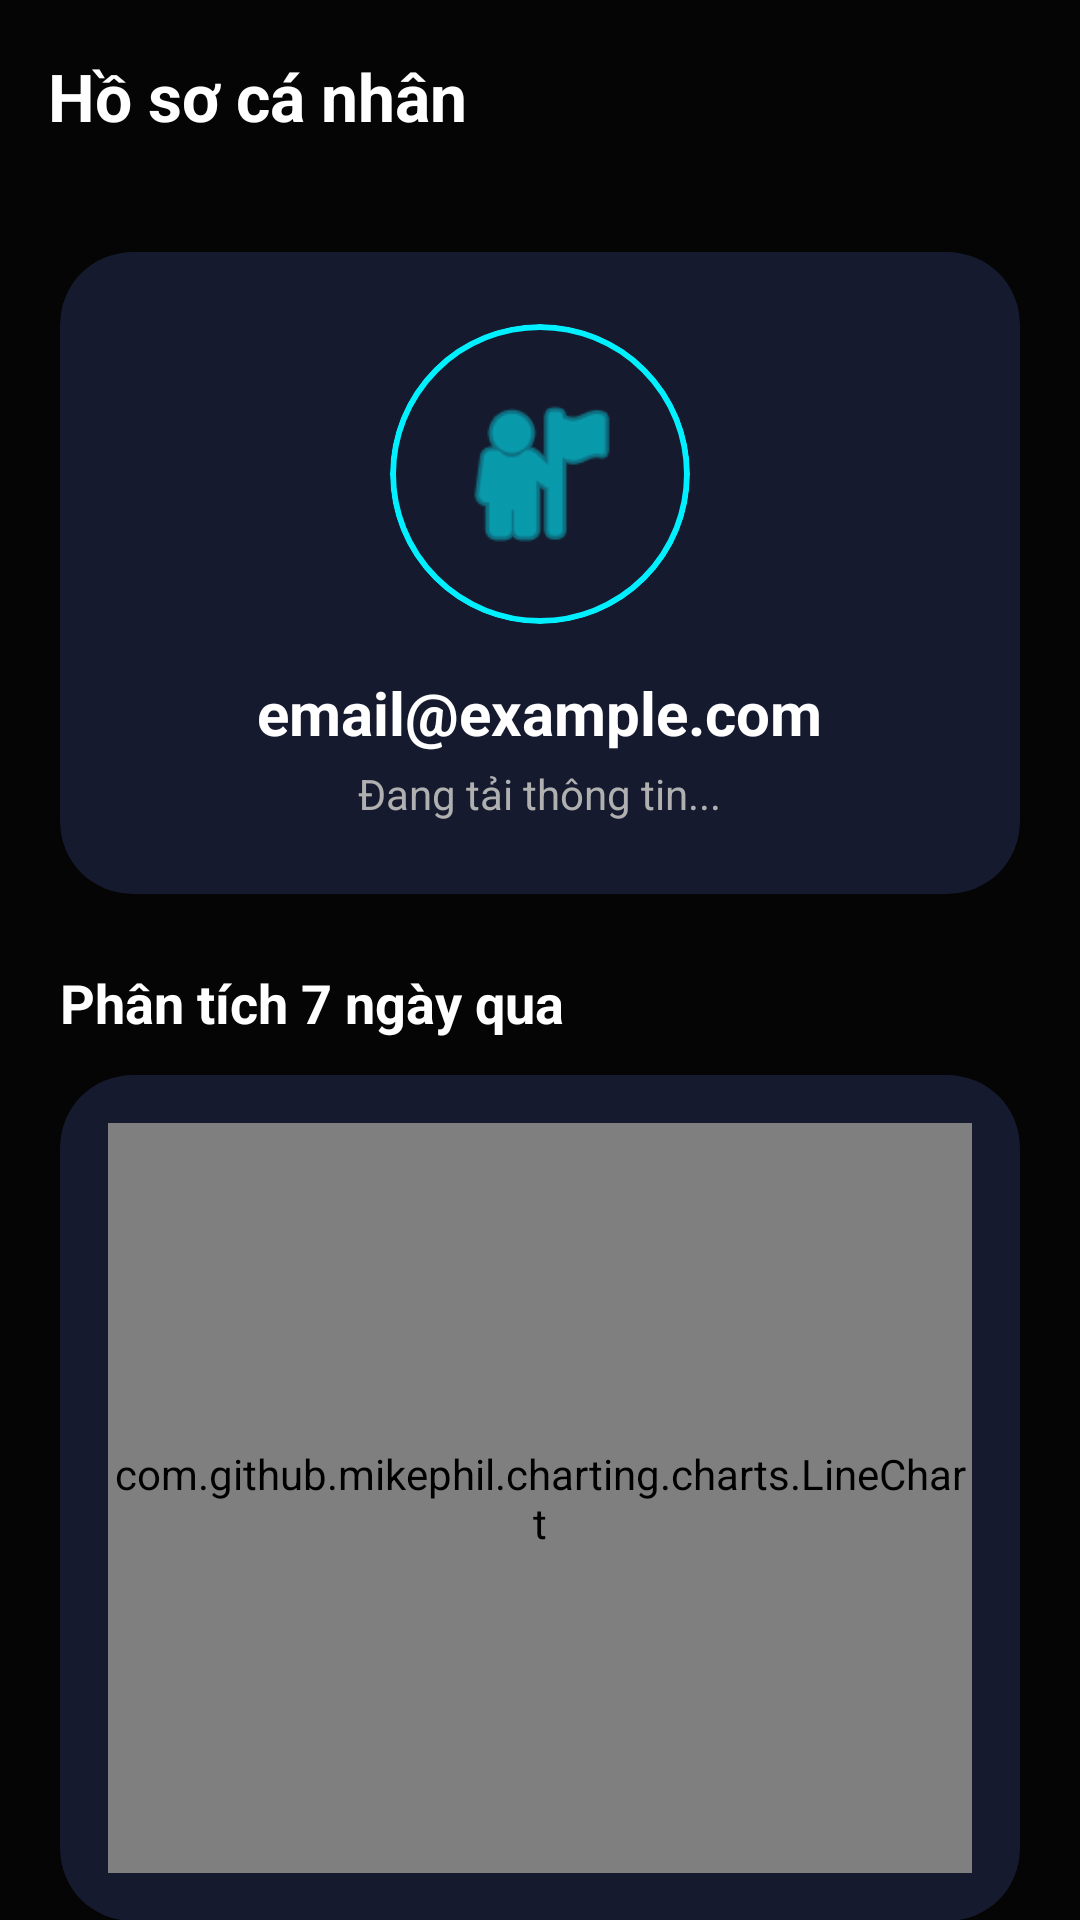

Locate icon controls on the screen. Image size 1080x1920, boxes as [x1=x1, y1=y1, x2=x2, y2=y2].
myplaces: [x1=390, y1=324, x2=690, y2=624]
